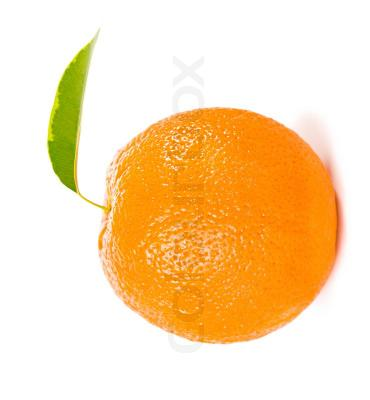orange: (0, 0, 370, 400)
